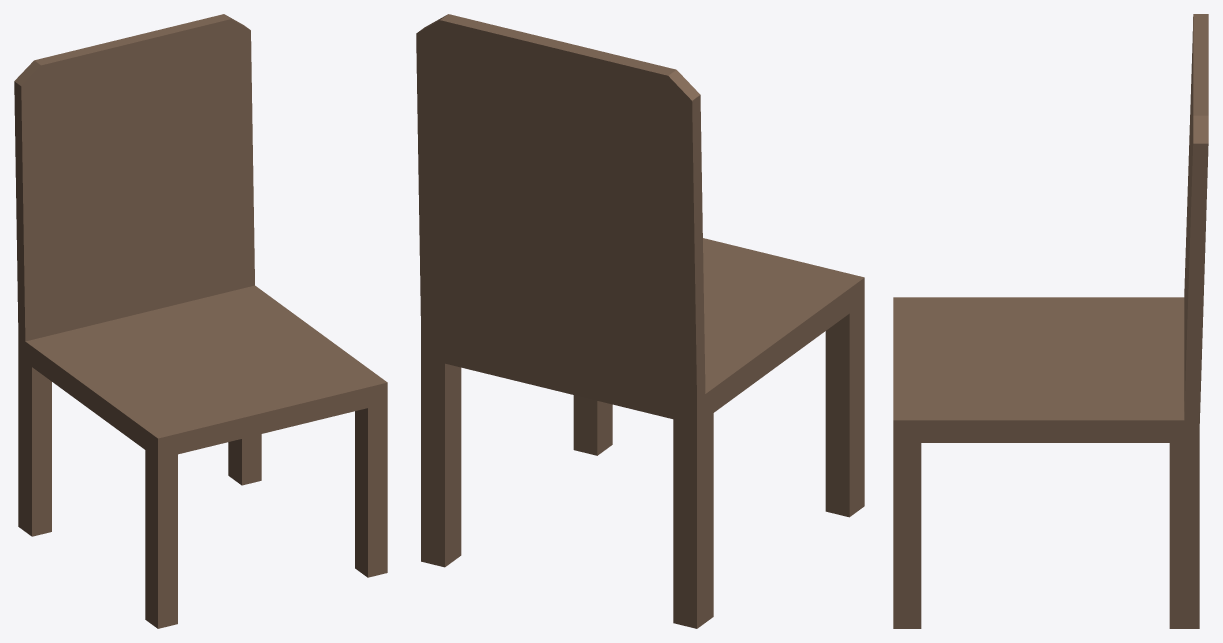
File: generic chair.fbx
3 renders of one model, left to right at view 1: azimuth 30°, elevation 25°; view 2: azimuth 150°, elevation 25°; view 3: azimuth 270°, elevation 25°, orthographic. The views are drawn at different scales.
Visible parts, largest first — view 1: Cube; view 2: Cube; view 3: Cube.
Boxes of the visible parts, x1,y1,x2,y2 form: Cube: (14,14,387,628); Cube: (416,14,864,628); Cube: (893,14,1208,628).
Size of the model in its own units: 60.99 by 116 by 66.1.
